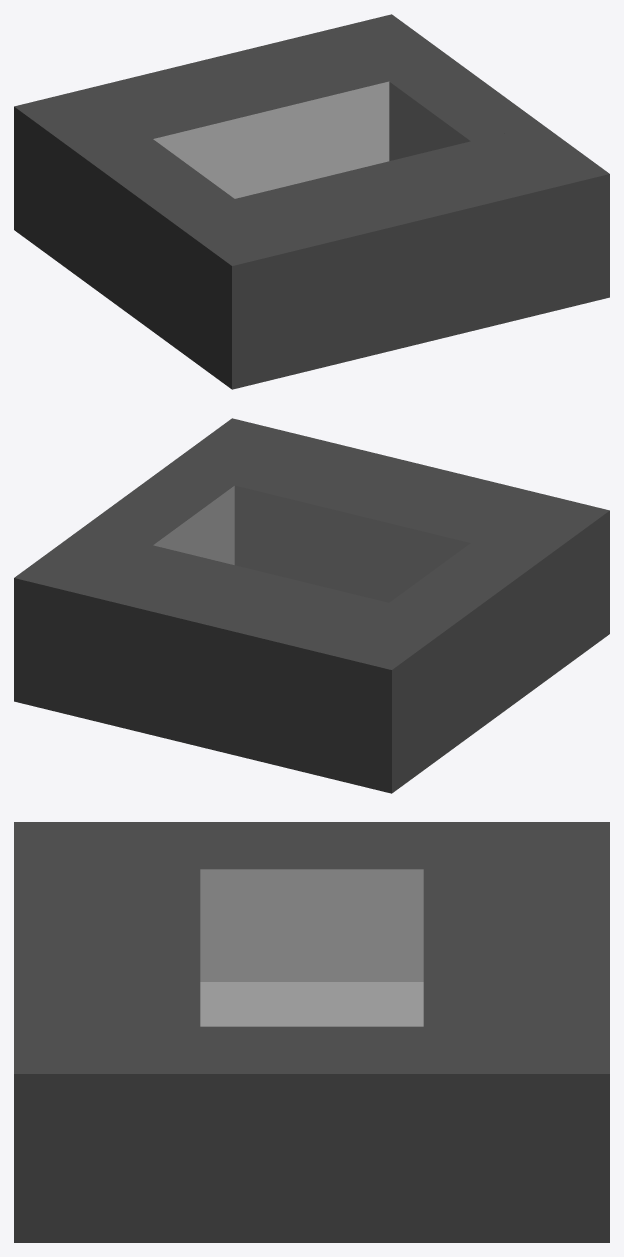
File: ingot_mold.gltf
3 views of the same model, one above another, from view 1: azimuth 30°, elevation 25°; view 2: azimuth 150°, elevation 25°; view 3: azimuth 270°, elevation 25° (orthographic). The views are drawn at different scales.
Visible parts, largest first — view 1: mesh; view 2: mesh; view 3: mesh.
Boxes of the visible parts, <box> form: mesh: <box>14,14,609,389</box>; mesh: <box>14,418,609,793</box>; mesh: <box>14,822,609,1242</box>.
Bounding box in the file's own units: 1 × 0.3125 × 1.
1 material, 1 textured.
